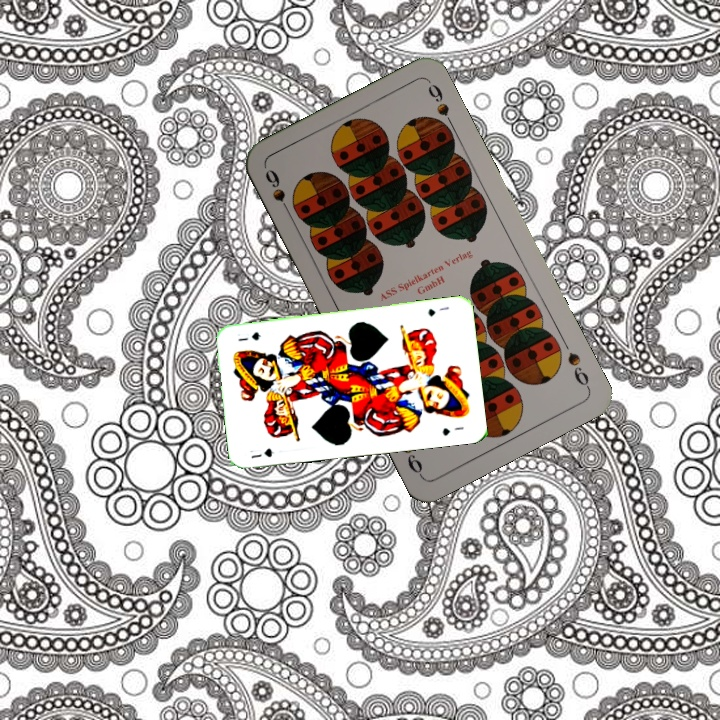GU: (246, 444, 276, 461), (424, 303, 451, 319)
S9: (261, 165, 295, 220), (563, 348, 593, 392)
